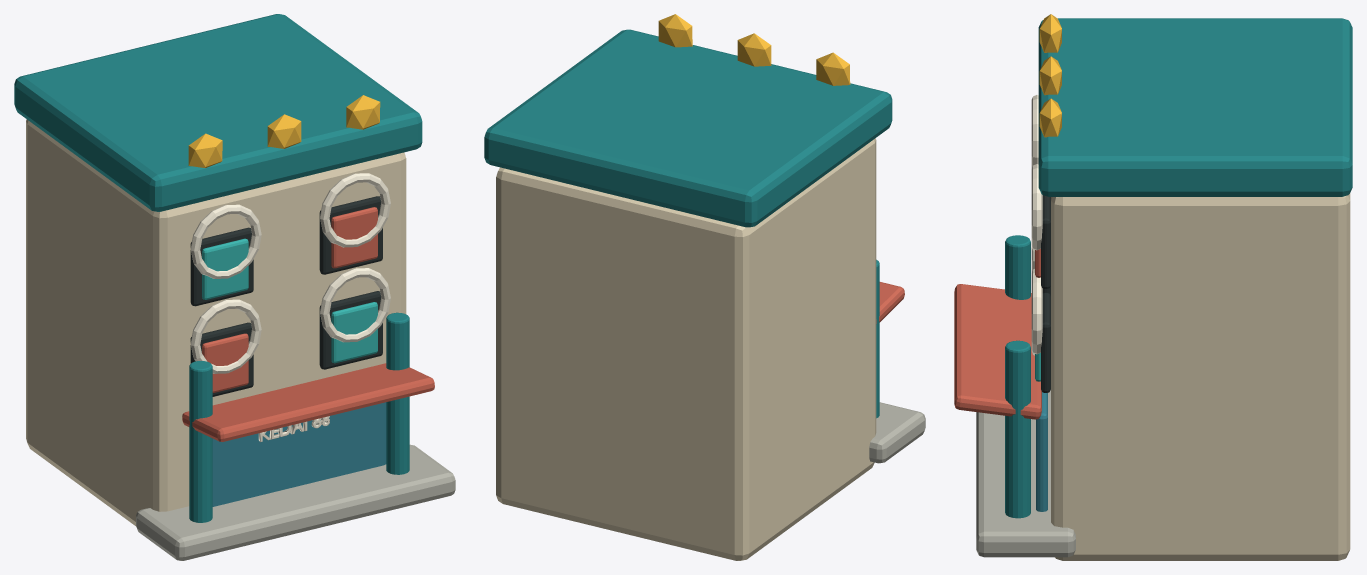
File: shophouse-v2.glb
3 renders of one model, left to right at view 1: azimuth 30°, elevation 25°; view 2: azimuth 150°, elevation 25°; view 3: azimuth 270°, elevation 25°, orthographic. The views are drawn at different scales.
Parts seen in each view (by area): view 1: HERITAGE SHOPHOUSE · Chalk; view 2: HERITAGE SHOPHOUSE · Chalk; view 3: HERITAGE SHOPHOUSE · Chalk.
Boxes of the visible parts, bbox=[...] form: HERITAGE SHOPHOUSE · Chalk: bbox=[14, 14, 455, 560]; HERITAGE SHOPHOUSE · Chalk: bbox=[484, 14, 925, 560]; HERITAGE SHOPHOUSE · Chalk: bbox=[954, 14, 1352, 560].
Size of the model in its own units: 3.55 by 4.89 by 3.99.
1 material, 1 textured.
